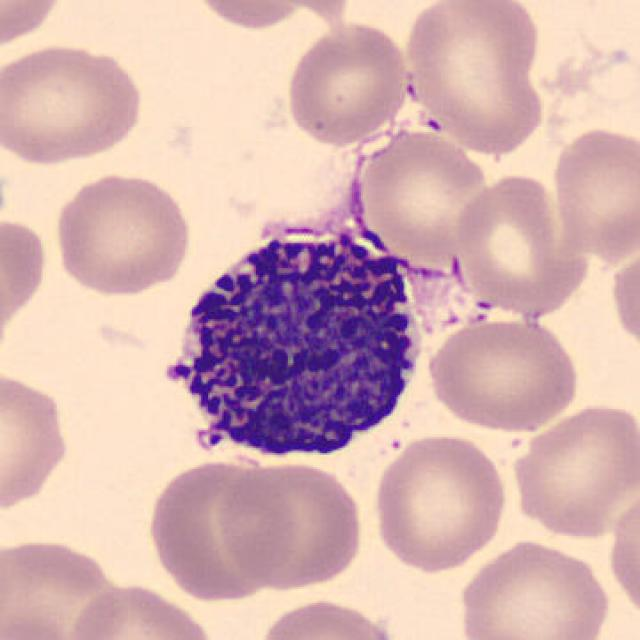Basophil: (149, 203, 441, 476)
RBC: (398, 0, 551, 157), (142, 455, 297, 603), (450, 169, 592, 319), (215, 457, 370, 594), (368, 430, 510, 575), (347, 125, 494, 263), (423, 314, 583, 434), (507, 398, 638, 542), (0, 41, 148, 168), (50, 169, 194, 298), (282, 18, 412, 148), (454, 536, 614, 640), (0, 532, 133, 639), (548, 121, 638, 262), (0, 363, 75, 520), (64, 578, 219, 640), (0, 212, 52, 354), (254, 596, 406, 640), (604, 485, 640, 628), (185, 0, 332, 32), (606, 243, 638, 360), (0, 0, 69, 54), (2, 604, 82, 640)
